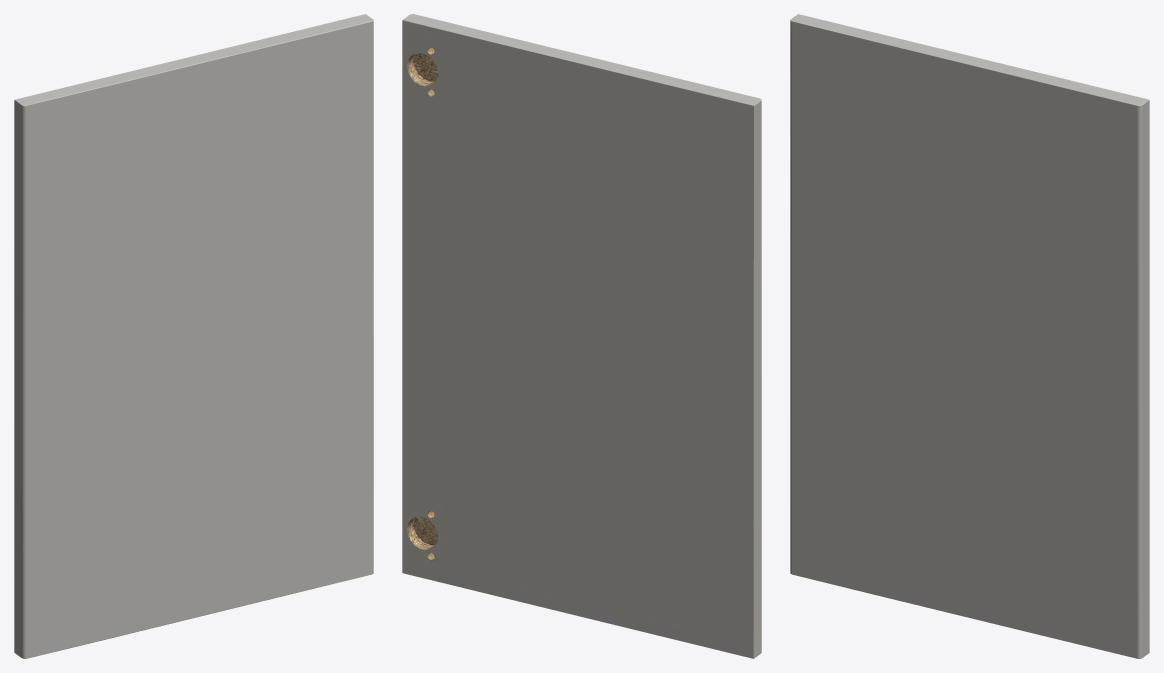
File: Ringhult60327137-40x60.glb
The picture shows the model from 3 angles, left to right: view 1: azimuth 30°, elevation 25°; view 2: azimuth 150°, elevation 25°; view 3: azimuth 330°, elevation 25°; orthographic projection.
Parts seen in each view (by area): view 1: model; view 2: model; view 3: model.
Boxes of the visible parts, x1=… form: model: x1=14, y1=14, x2=373, y2=658; model: x1=402, y1=14, x2=761, y2=658; model: x1=790, y1=14, x2=1149, y2=658.
Bounding box in the file's own units: 0.3971 × 0.597 × 0.018.
1 material, 1 textured.
